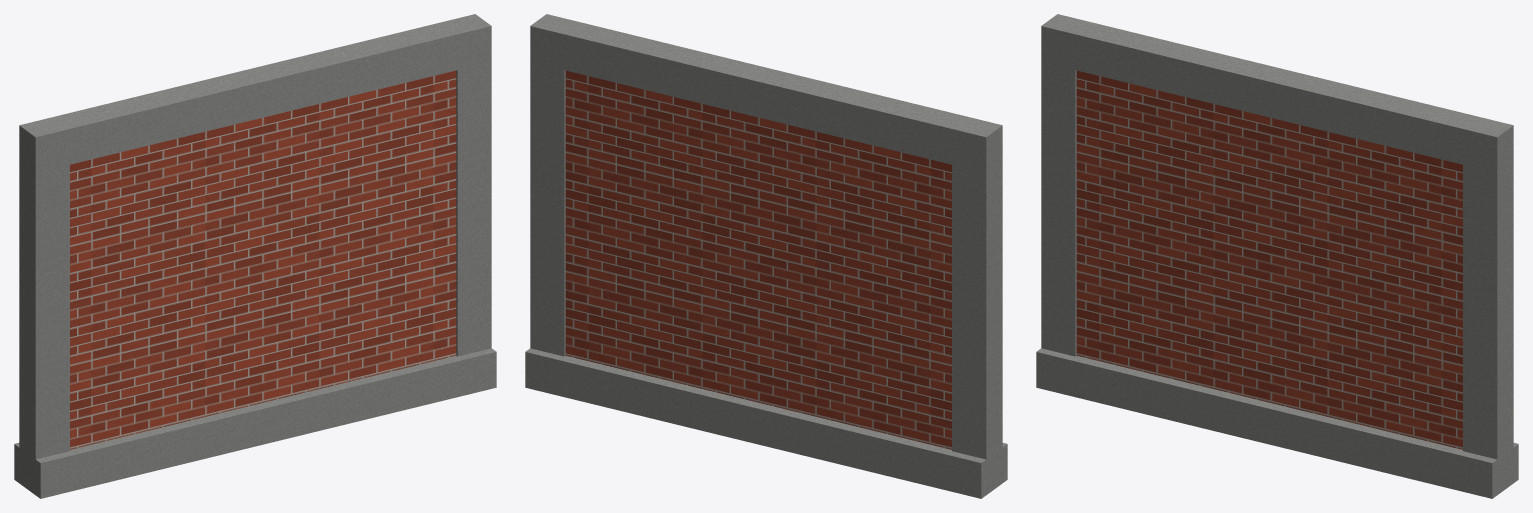
File: estate_wall_3b.glb
3 renders of one model, left to right at view 1: azimuth 30°, elevation 25°; view 2: azimuth 150°, elevation 25°; view 3: azimuth 330°, elevation 25°, orthographic.
Visible parts, largest first — view 1: Cube.004, Cube.003, Cube, Cube.001, Cube.002; view 2: Cube.004, Cube.003, Cube, Cube.001, Cube.002; view 3: Cube.004, Cube.003, Cube, Cube.002, Cube.001.
Part boxes in pixels (x1,y1,x2,y2): Cube.004: [70, 70, 456, 449]; Cube.003: [19, 14, 491, 172]; Cube: [14, 348, 496, 498]; Cube.001: [19, 161, 69, 459]; Cube.002: [456, 62, 491, 356]; Cube.004: [565, 70, 951, 449]; Cube.003: [530, 14, 1002, 172]; Cube: [525, 348, 1007, 498]; Cube.001: [952, 161, 1002, 459]; Cube.002: [530, 62, 565, 356]; Cube.004: [1076, 70, 1462, 449]; Cube.003: [1041, 14, 1513, 172]; Cube: [1036, 348, 1518, 498]; Cube.002: [1463, 161, 1513, 459]; Cube.001: [1041, 62, 1076, 356].
Bounding box in the file's own units: 4 × 3 × 0.4.
2 materials, 2 textured.
